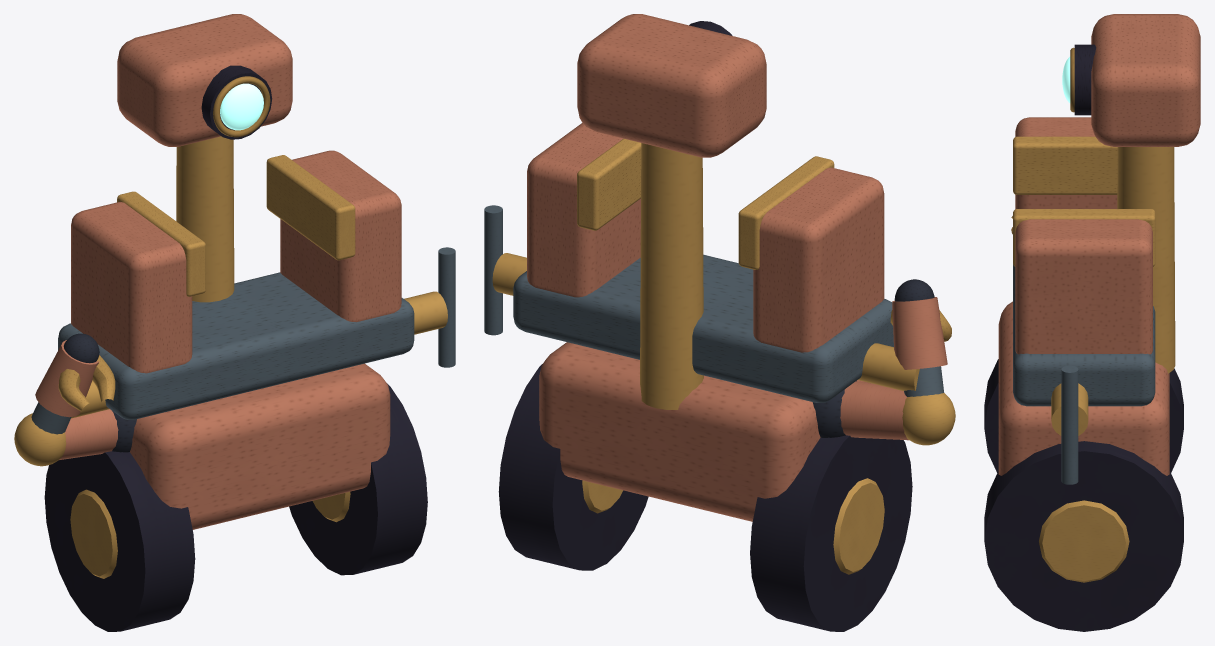
The model's file is crimp.glb.
3 renders of one model, left to right at view 1: azimuth 30°, elevation 25°; view 2: azimuth 150°, elevation 25°; view 3: azimuth 270°, elevation 25°, orthographic. The views are drawn at different scales.
Parts seen in each view (by area): view 1: Rubber wheel (×2), Vice jaw (×2), Bench vice chassis, Jaw bed, Optics housing, Jaw liner (×2), Neck piston, Wheel hub (×2), Upper link, Forearm sleeve, T handle, Lead screw (+8 smaller); view 2: Rubber wheel (×2), Vice jaw (×2), Bench vice chassis, Jaw bed, Optics housing, Neck piston, Jaw liner (×2), Wheel hub (×2), Forearm sleeve, Upper link, Lead screw, Elbow bearing (+4 smaller); view 3: Rubber wheel (×2), Vice jaw (×2), Optics housing, Bench vice chassis, Jaw liner (×2), Neck piston, Jaw bed, Wheel hub, T handle, Barrel, Lead screw, Optical glass (+1 smaller).
Boxes of the visible parts, x1,y1,x2,y2 form: Rubber wheel (×2): (44,383,427,631); Vice jaw (×2): (71,150,401,373); Bench vice chassis: (130,363,390,529); Jaw bed: (58,272,414,419); Optics housing: (117,14,292,146); Jaw liner (×2): (117,155,355,296); Neck piston: (176,136,234,302); Wheel hub (×2): (70,489,350,578); Upper link: (59,409,118,459); Forearm sleeve: (35,340,99,417); T handle: (438,247,455,367); Lead screw: (71,291,447,418); Rubber wheel (×2): (498,364,912,631); Vice jaw (×2): (527,123,884,352); Bench vice chassis: (539,342,870,521); Jaw bed: (513,254,893,402); Optics housing: (577,14,766,157); Neck piston: (640,143,703,409); Jaw liner (×2): (577,138,834,269); Wheel hub (×2): (582,478,884,574); Forearm sleeve: (892,297,947,369); Upper link: (840,381,908,440); Lead screw: (492,253,919,390); Elbow bearing: (902,393,955,445); Rubber wheel (×2): (984,359,1183,631); Vice jaw (×2): (1015,117,1152,354); Optics housing: (1091,14,1200,146); Bench vice chassis: (998,301,1169,475); Jaw liner (×2): (1013,136,1155,266); Neck piston: (1117,147,1175,373); Jaw bed: (1013,264,1155,406); Wheel hub: (1039,500,1129,582); T handle: (1061,365,1078,484); Barrel: (1074,44,1096,115); Lead screw: (1051,383,1088,435); Optical glass: (1062,57,1070,103).
Size of the model in its own units: 1.04 by 1.22 by 0.455.
12 materials, 11 textured.
